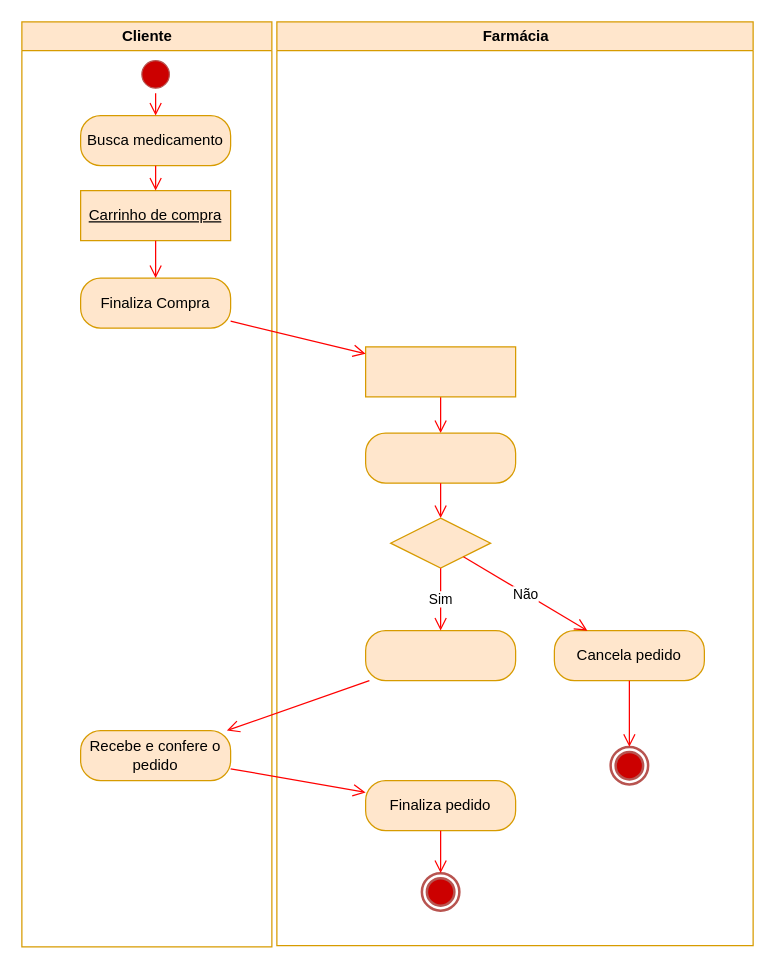
Some shapes in this 775 by 969 pixel diagram are drawn without their labels. Each missing label, with the centre of its shape:
"Envia pedido para transporte" goes at pixel 440 655.
"Pedido" goes at pixel 440 371.
"Pedido Ok" goes at pixel 440 542.
"Visualiza e confere pedido" goes at pixel 440 457.
